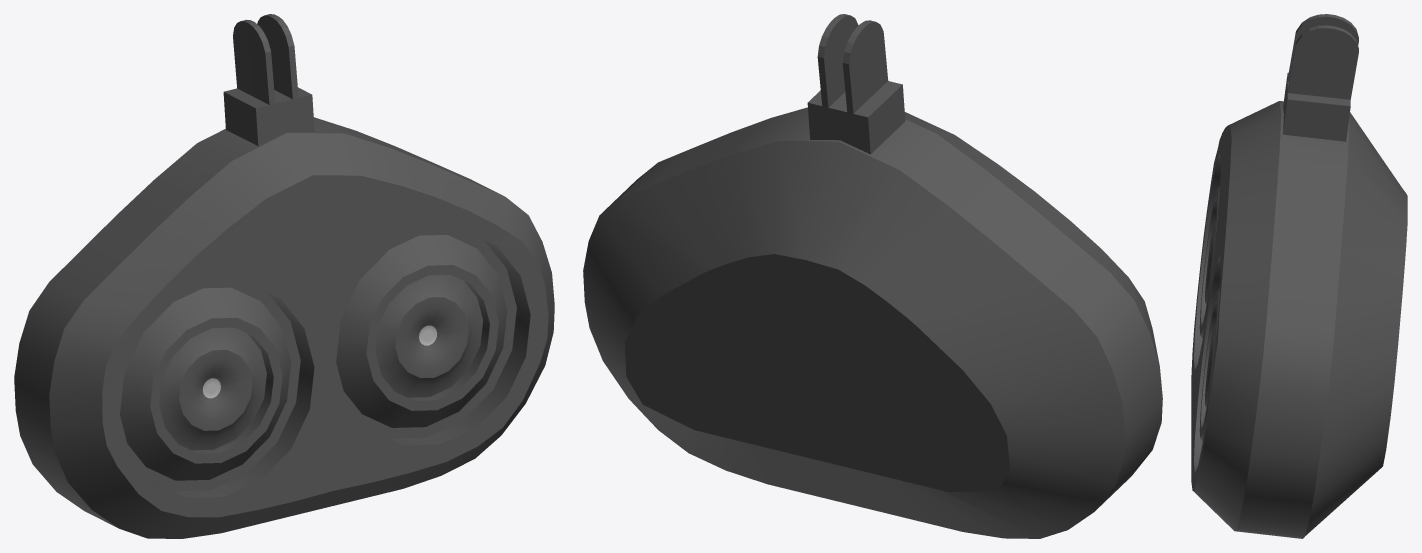
Rendered from loud-bicycle-mini-horn.gltf.
3 views of the same model, side by side, from view 1: azimuth 30°, elevation 25°; view 2: azimuth 150°, elevation 25°; view 3: azimuth 270°, elevation 25° (orthographic). The views are drawn at different scales.
Parts seen in each view (by area): view 1: loud-bicycle-mini-horn; view 2: loud-bicycle-mini-horn; view 3: loud-bicycle-mini-horn.
Boxes of the visible parts, bbox=[...] form: loud-bicycle-mini-horn: bbox=[14, 14, 554, 538]; loud-bicycle-mini-horn: bbox=[583, 14, 1162, 538]; loud-bicycle-mini-horn: bbox=[1191, 14, 1407, 538].
Bounding box in the file's own units: 0.1809 × 0.159 × 0.0691.
Materials: 1 (1 with a texture image).
